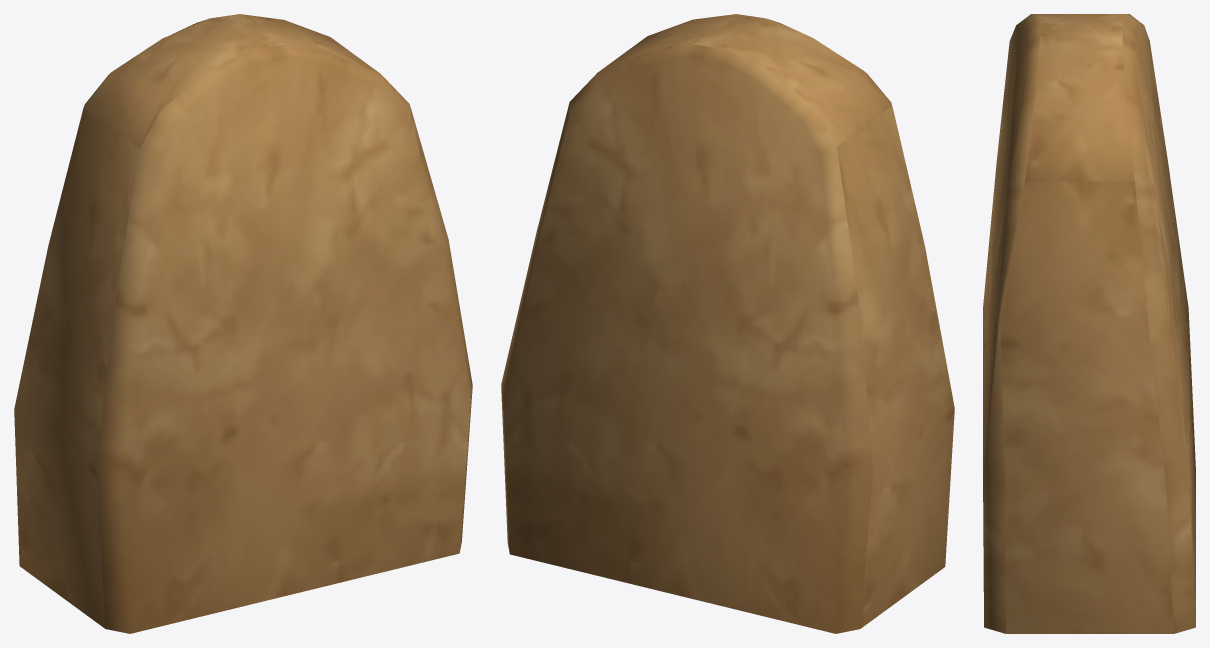
The model's file is Tomb_Stone_01.FBX.
3 renders of one model, left to right at view 1: azimuth 30°, elevation 25°; view 2: azimuth 150°, elevation 25°; view 3: azimuth 270°, elevation 25°, orthographic. The views are drawn at different scales.
Visible parts, largest first — view 1: Tomb_Stone_01; view 2: Tomb_Stone_01; view 3: Tomb_Stone_01.
Boxes of the visible parts, x1=… form: Tomb_Stone_01: x1=14, y1=14, x2=472, y2=633; Tomb_Stone_01: x1=501, y1=14, x2=954, y2=633; Tomb_Stone_01: x1=983, y1=14, x2=1195, y2=633.
Bounding box in the file's own units: 1.03 × 1.38 × 0.5164.
